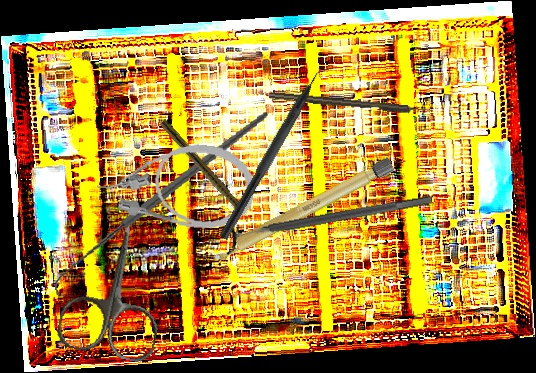Cannula: (93, 132, 259, 235)
Chopper: (218, 55, 340, 247)
Fixation Ring: (220, 184, 436, 256)
Handpiece: (157, 119, 254, 224)
Hook Surgical: (35, 111, 289, 296), (268, 90, 434, 117)
Iris Scissors: (54, 215, 178, 365)
Scalpel Handle: (209, 156, 395, 266)
